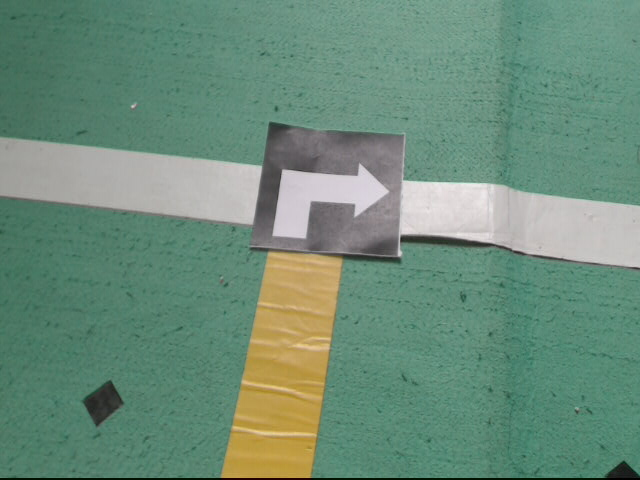right: (249, 120, 408, 257)
